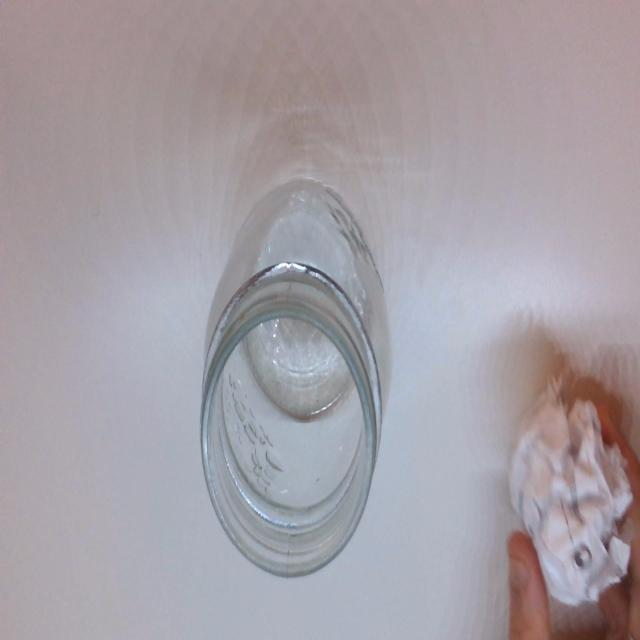Paper: (202, 182, 390, 583), (511, 393, 635, 610)
